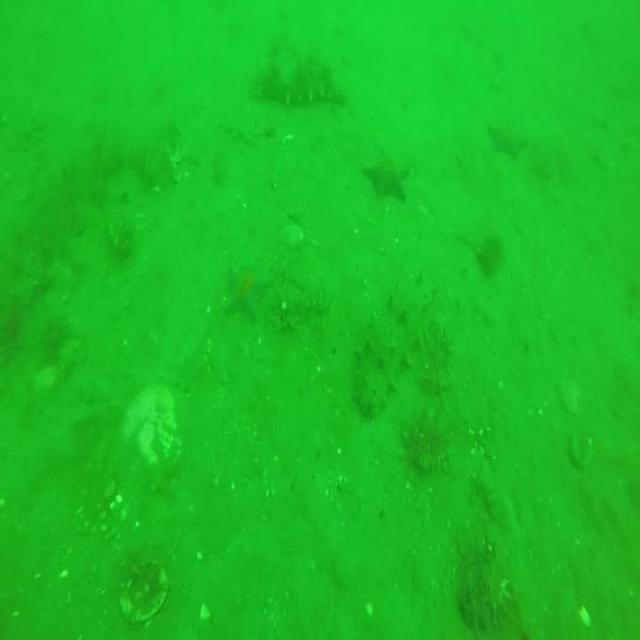holothurian: (348, 275, 438, 422), (72, 112, 179, 174), (250, 51, 348, 104)
scallop: (121, 390, 183, 476), (123, 566, 169, 627), (281, 221, 303, 253)
starfish: (362, 150, 412, 202), (227, 266, 272, 319), (487, 120, 527, 160)
